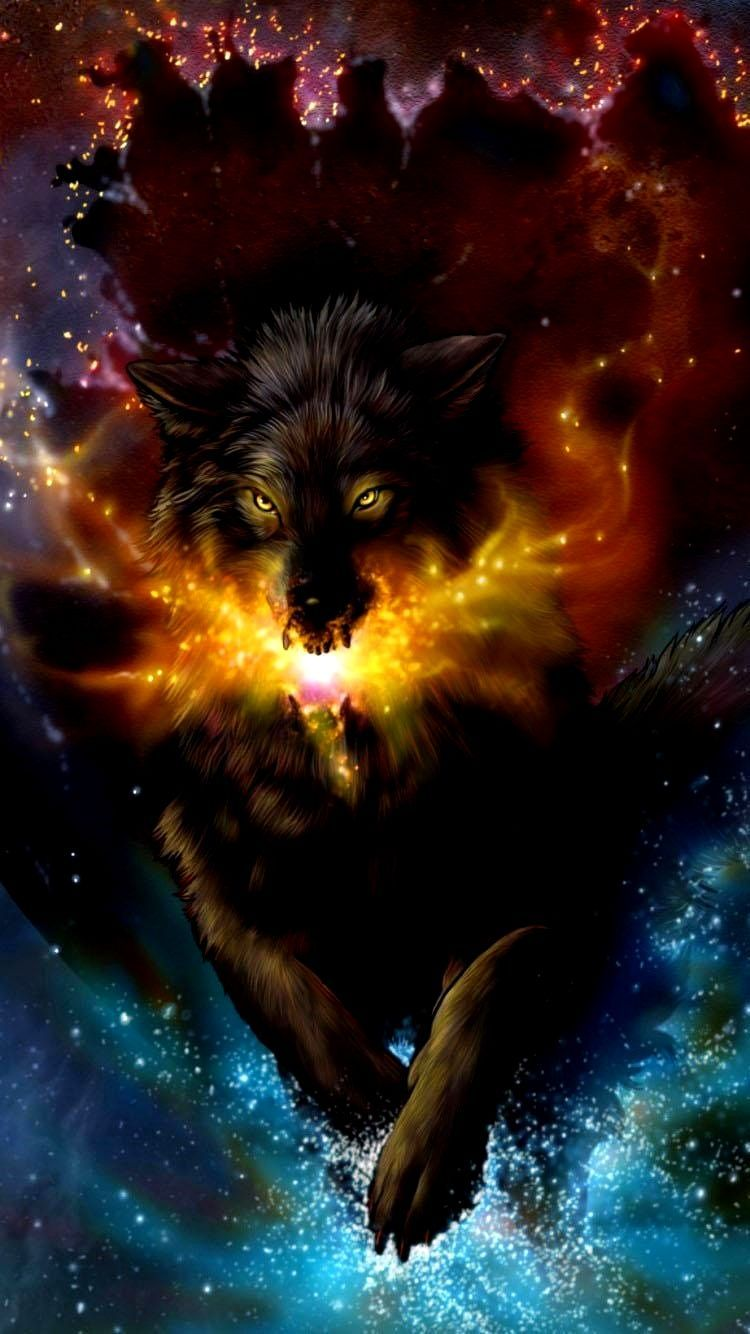Lobo: (79, 223, 639, 1278)
